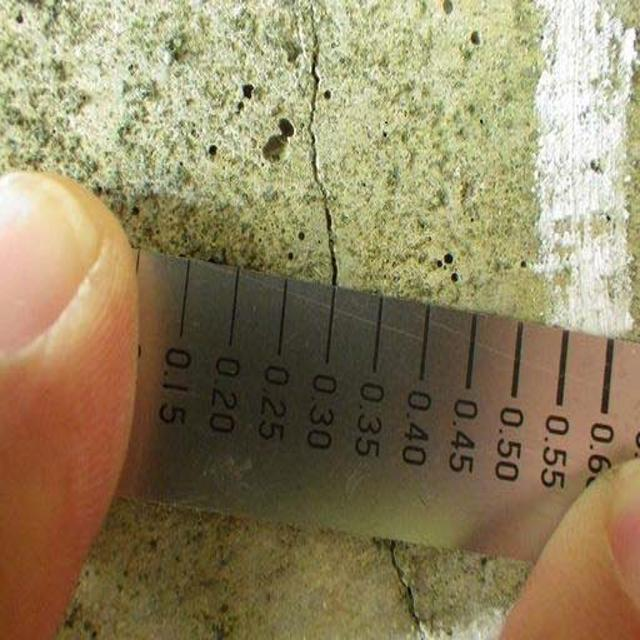crack: (296, 17, 341, 277)
